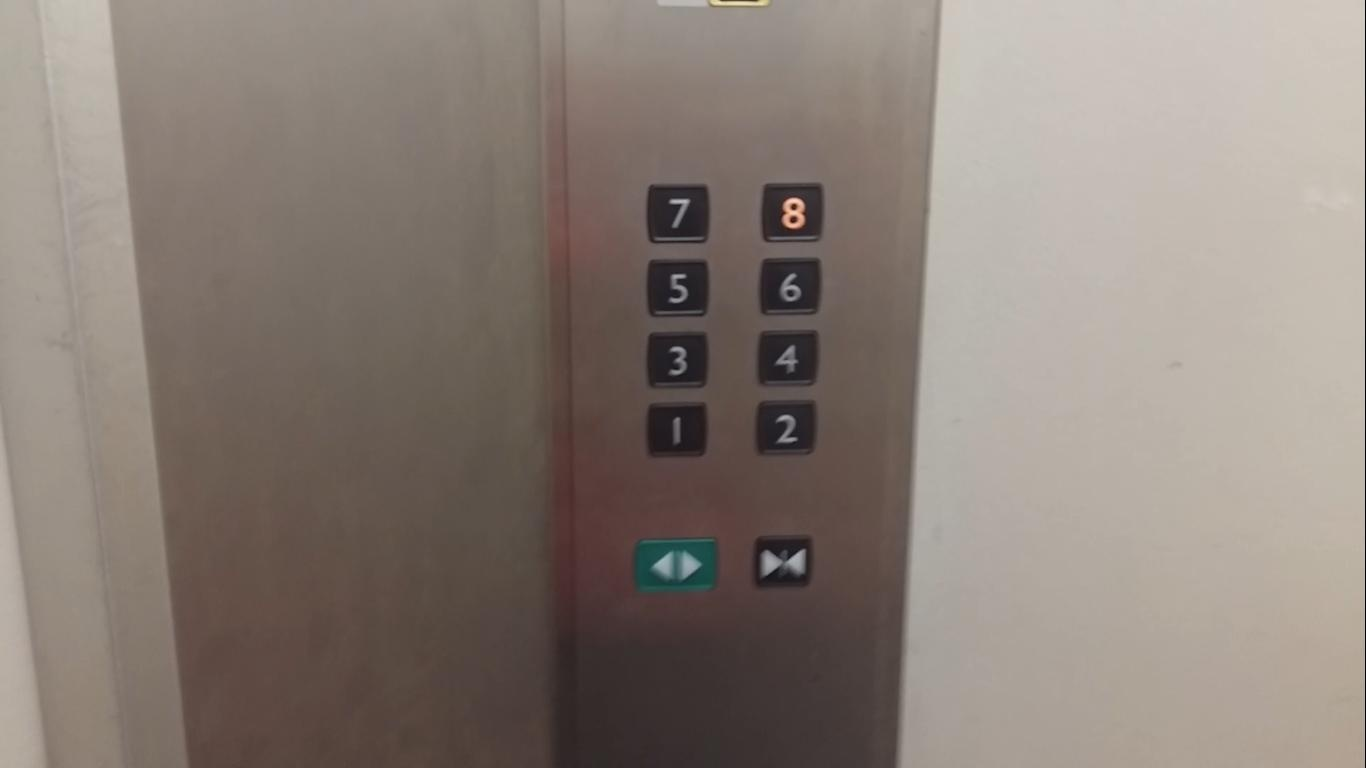1: (645, 401, 707, 457)
2: (756, 399, 817, 456)
3: (647, 330, 710, 390)
4: (756, 329, 819, 387)
5: (646, 258, 711, 318)
6: (759, 256, 822, 318)
7: (646, 183, 711, 245)
8: (759, 182, 825, 244)
close: (753, 532, 814, 589)
open: (634, 537, 718, 592)
